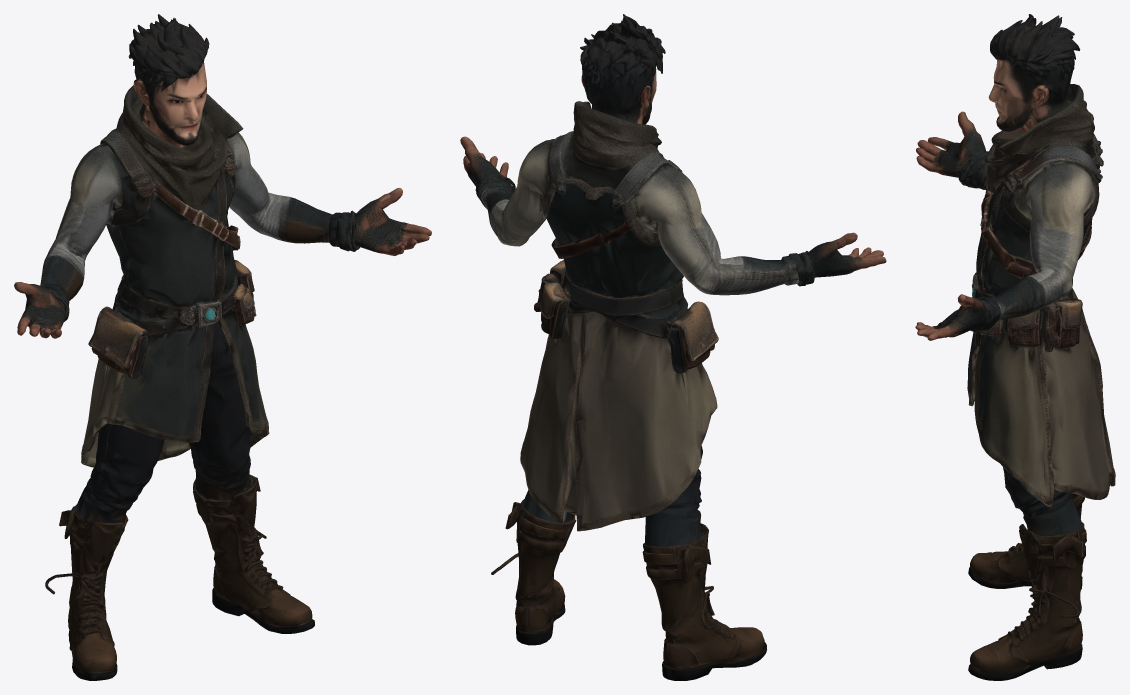
The model's file is tamer.refine.glb.
3 views of the same model, side by side, from view 1: azimuth 30°, elevation 25°; view 2: azimuth 150°, elevation 25°; view 3: azimuth 270°, elevation 25° (orthographic). The views are drawn at different scales.
Visible parts, largest first — view 1: mesh_node; view 2: mesh_node; view 3: mesh_node.
Boxes of the visible parts, bbox=[...] form: mesh_node: bbox=[14, 14, 431, 680]; mesh_node: bbox=[460, 14, 886, 680]; mesh_node: bbox=[915, 14, 1115, 680].
Bounding box in the file's own units: 1.26 × 1.8 × 0.5329.
1 material, 1 textured.
